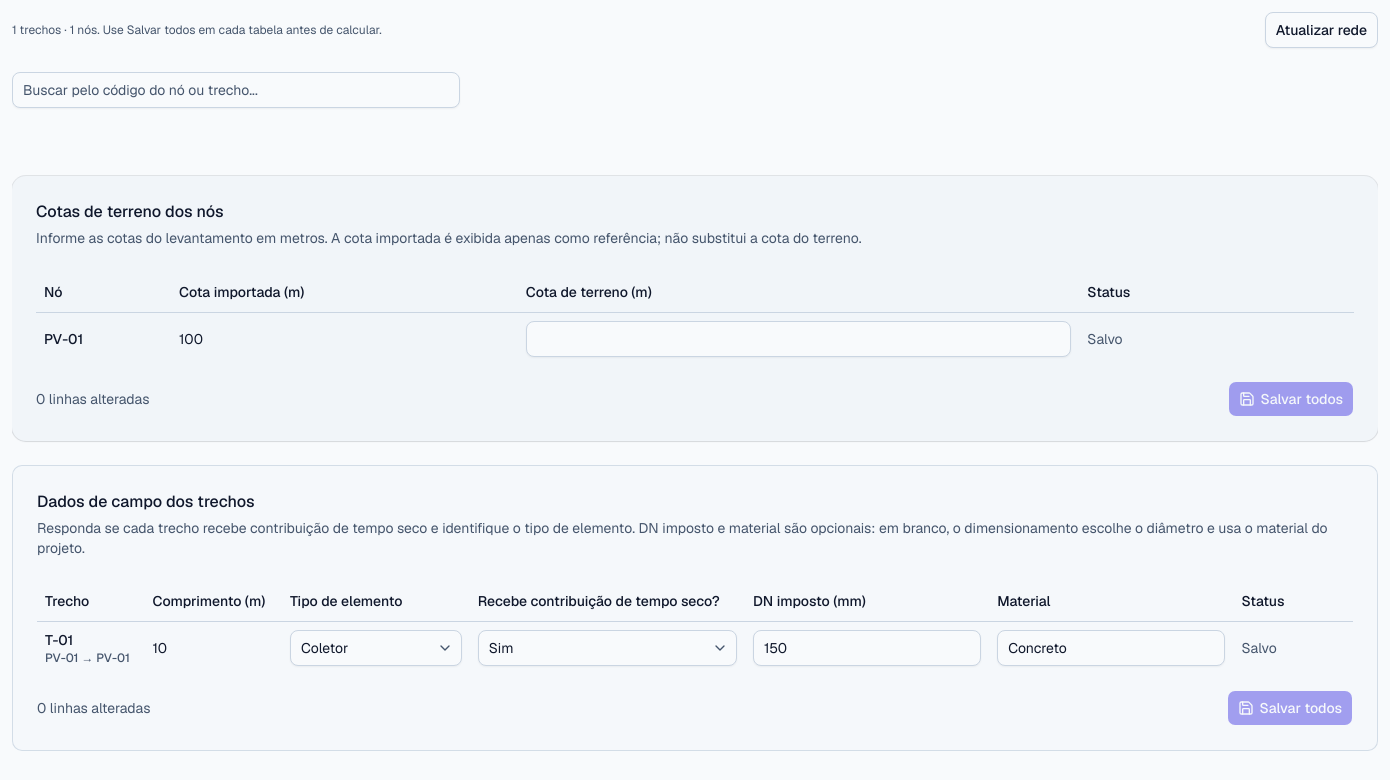
Scenario: network field data › clears a dry-weather answer back to null and restores the clean form state
Step 1. Click the dropdown named "Contribuição de tempo seco T-01" → (607, 648), box [478,630,737,666]
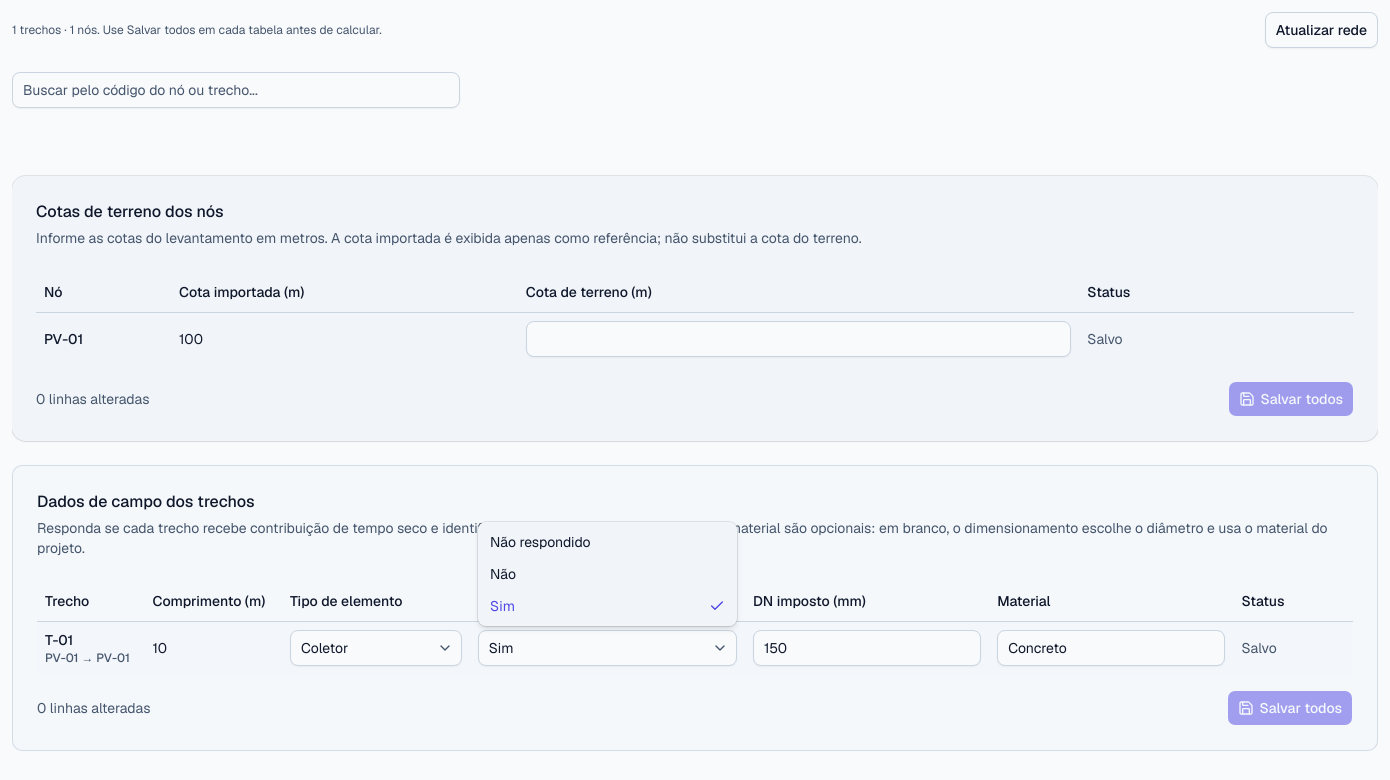
Step 2. Click the option "Não respondido" → (540, 542), box [490,533,591,551]
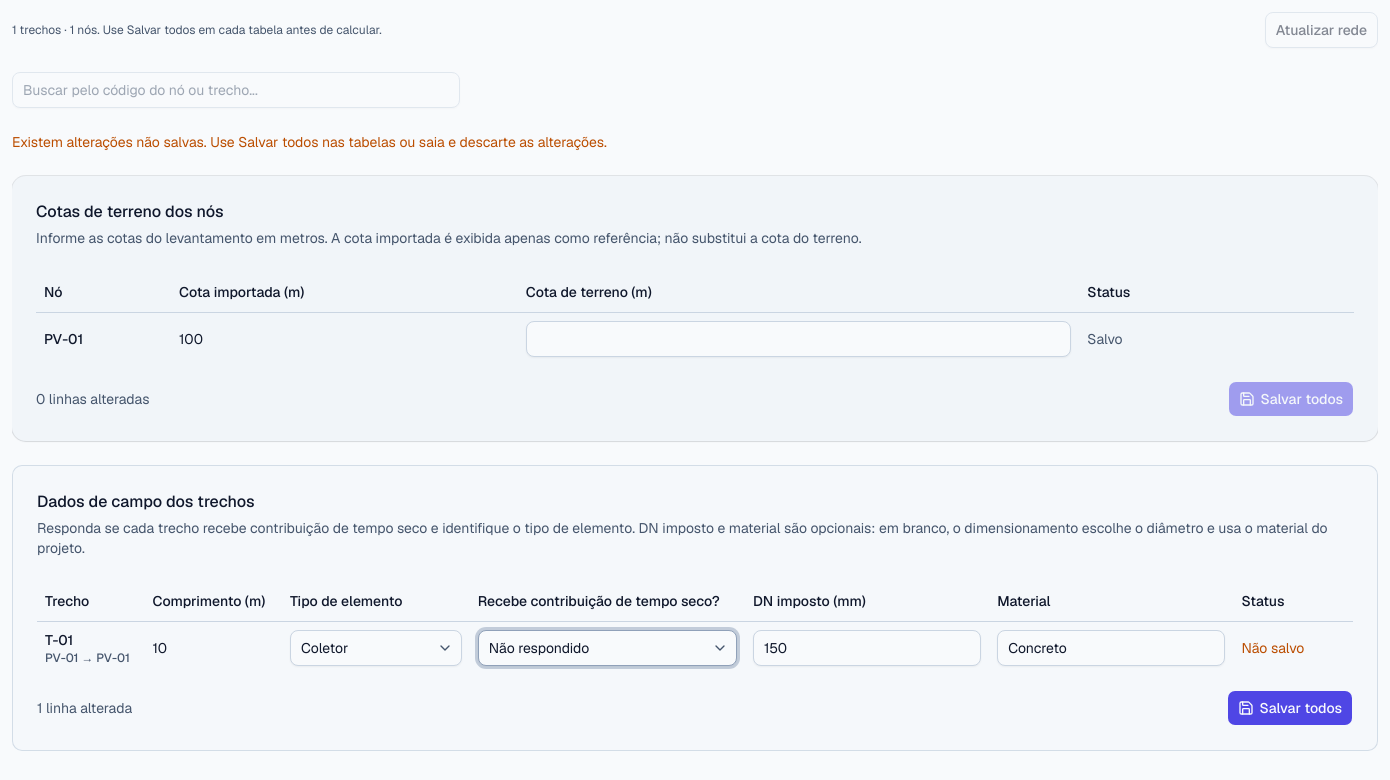
Step 3. Click the button with aria-label "Salvar todos os trechos" → (1290, 708), box [1226,690,1353,726]
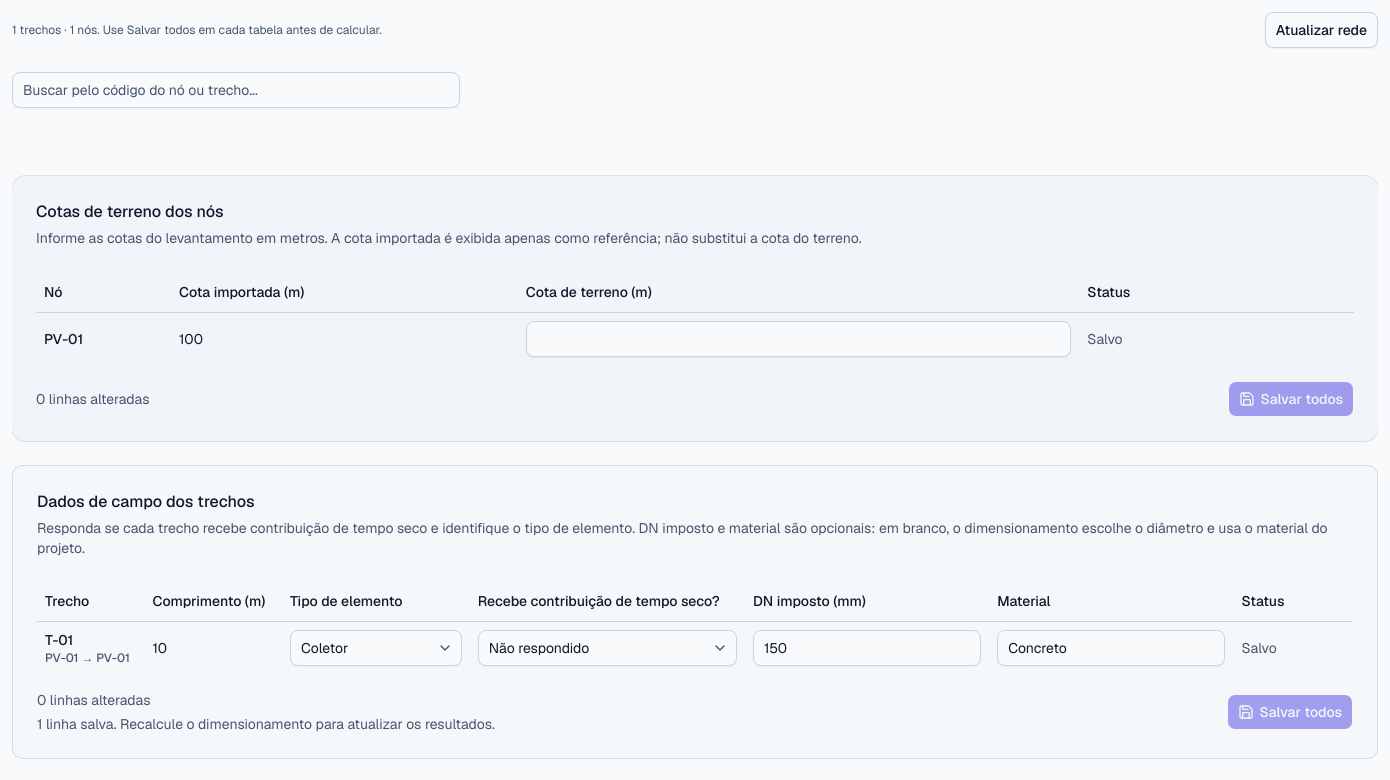
Check: the dropdown named "Contribuição de tempo seco T-01" reads "Não respondido", box [478,630,737,666]
Check: the button with aria-label "Salvar todos os trechos" is disabled, box [1226,694,1353,730]
